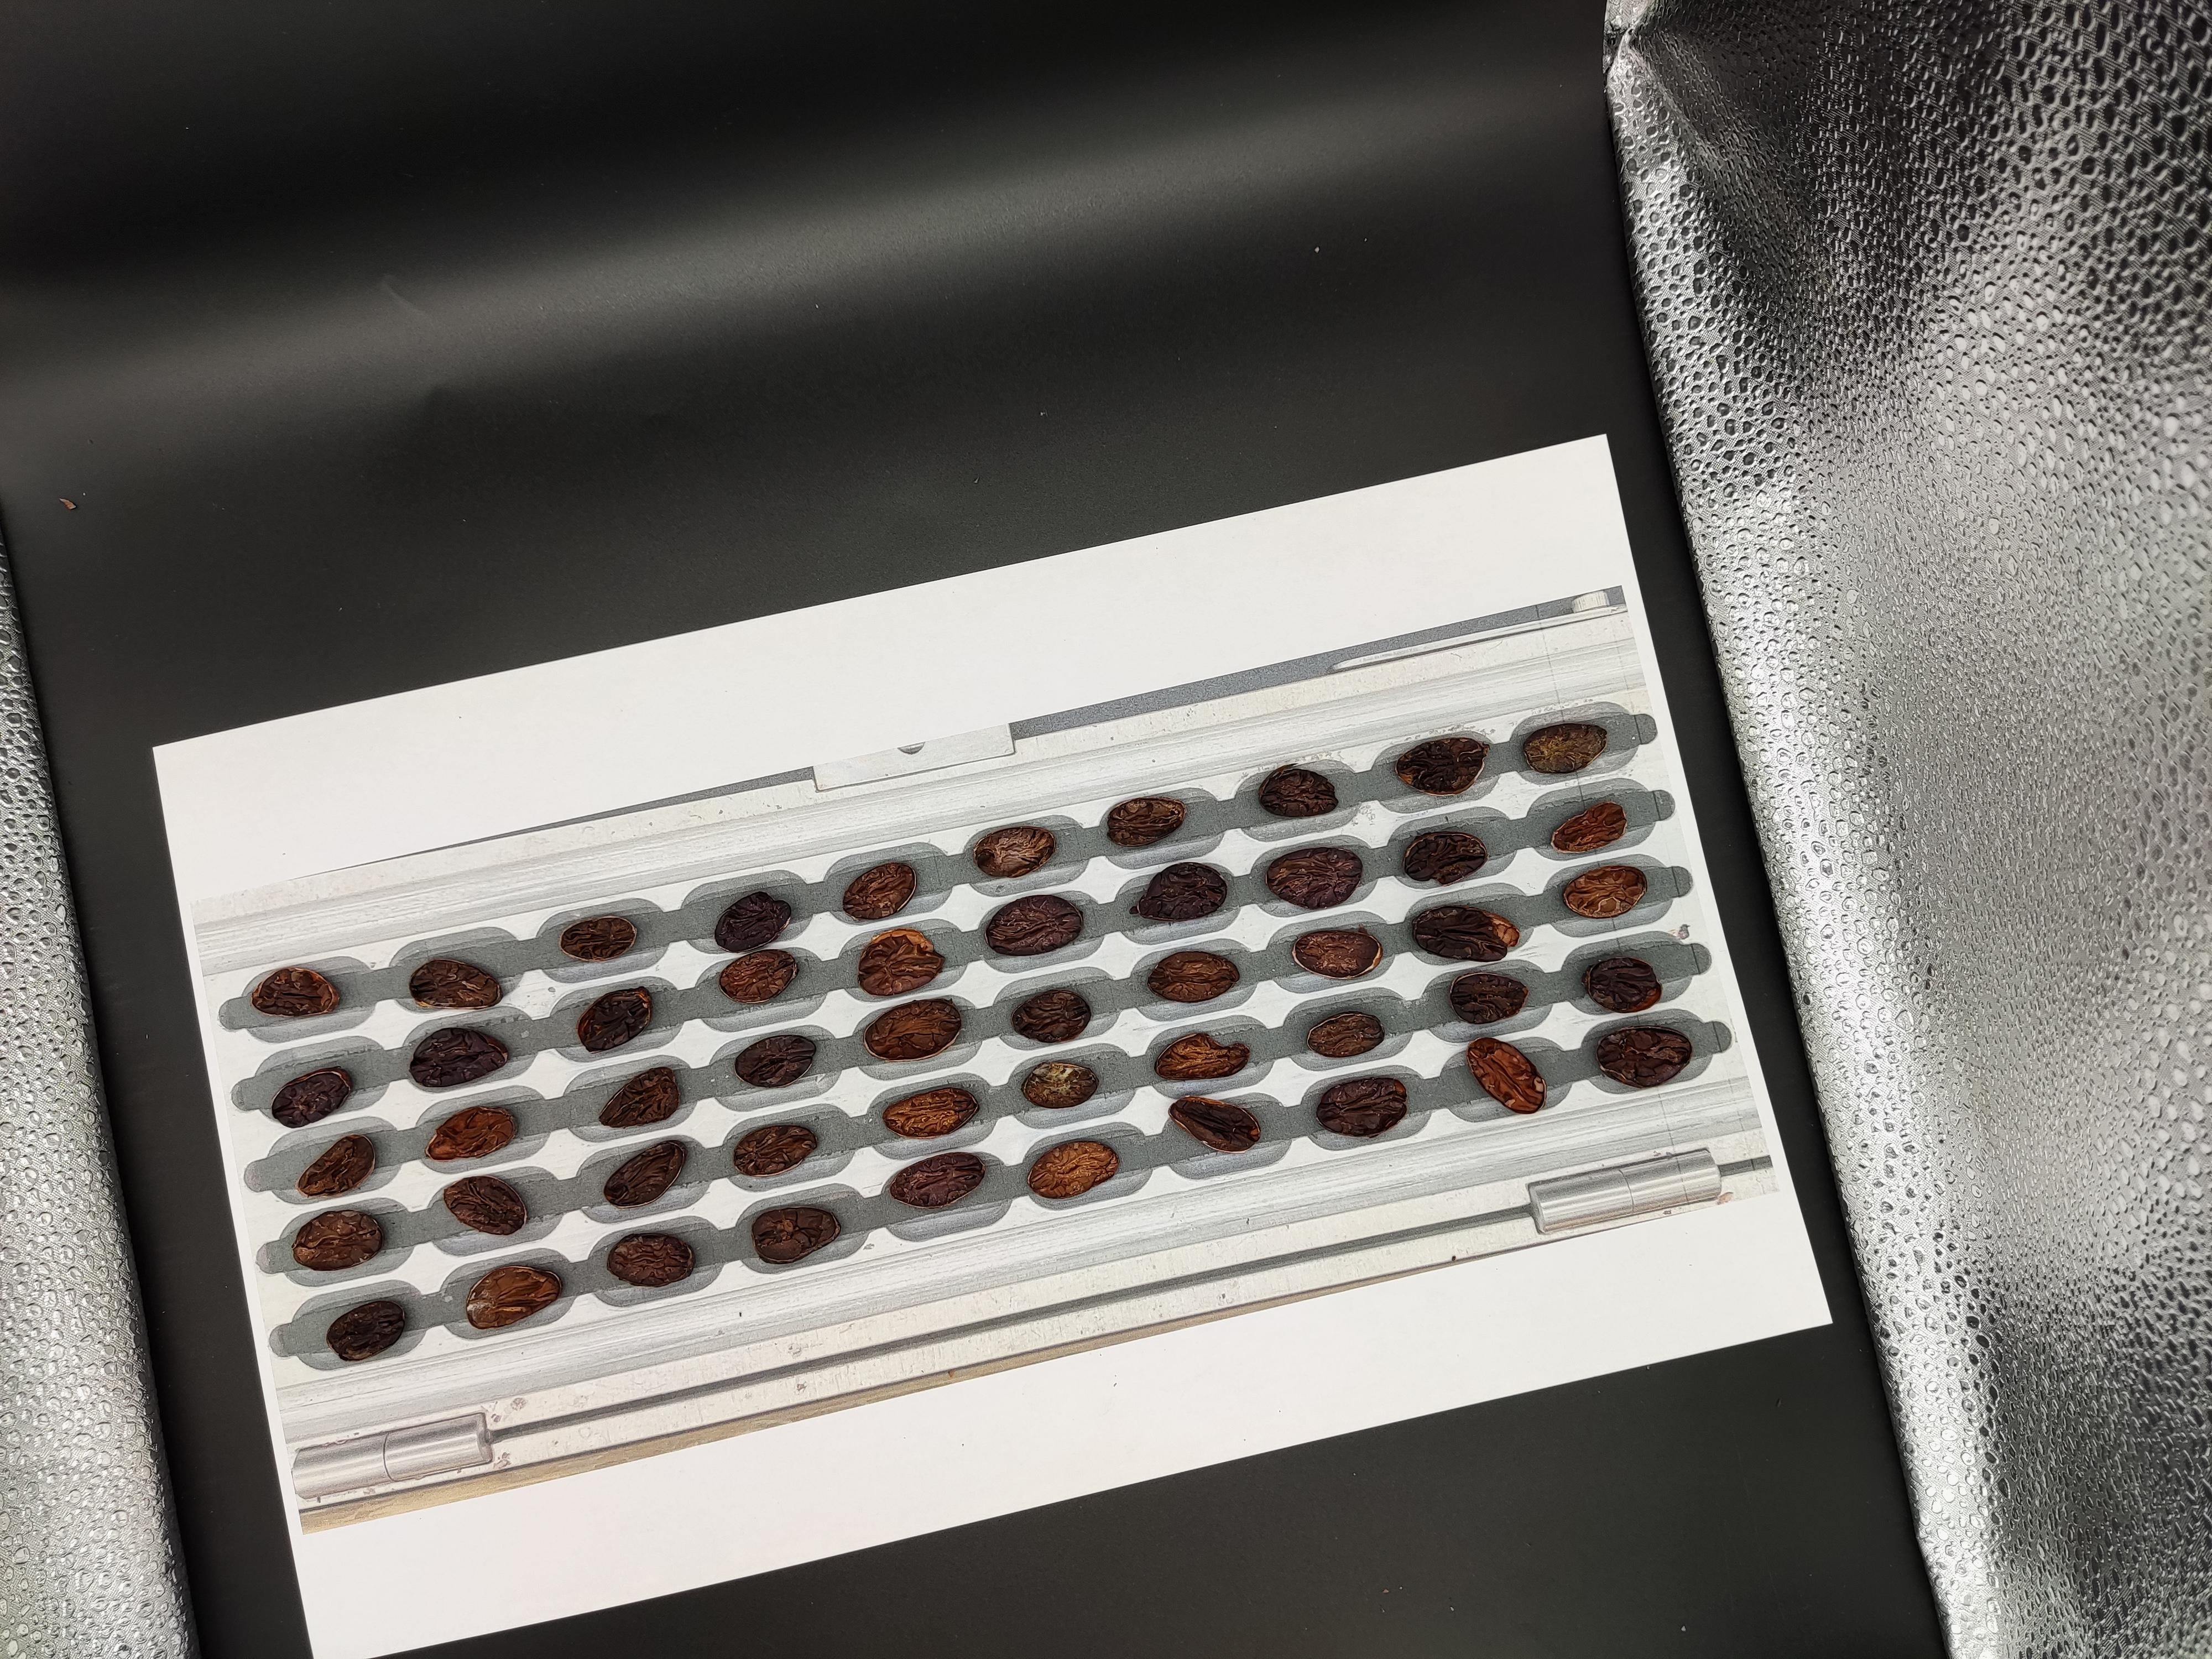Brown - G1: (1827, 528, 1876, 575), (1515, 474, 1568, 514), (1642, 406, 1693, 437), (1453, 573, 1501, 605), (1871, 410, 1916, 443)
Brown - G2: (1381, 544, 1433, 582), (1529, 554, 1585, 589), (1296, 565, 1348, 599), (1205, 491, 1258, 526), (1507, 437, 1552, 477), (1878, 439, 1926, 474), (1669, 526, 1723, 558)
Brown - G3: (1517, 509, 1576, 547), (1601, 580, 1658, 619), (1226, 615, 1278, 653), (1386, 629, 1440, 666), (1228, 577, 1275, 619), (1662, 484, 1717, 518), (1306, 599, 1355, 636), (1287, 490, 1341, 521), (1575, 420, 1625, 453), (1446, 484, 1493, 519)
Brown - G4: (1743, 518, 1794, 547)
Insect-damaged: (1855, 366, 1907, 401)
Mouldy: (1317, 643, 1371, 685), (1601, 540, 1646, 572)
Partly Purple - G1: (1792, 422, 1844, 457), (1817, 497, 1865, 530)
Partly Purple - G2: (1724, 430, 1784, 471), (1752, 549, 1803, 587)
Partly Purple - G3: (1531, 589, 1587, 622)
Partly Purple - G4: (1738, 474, 1791, 507)
Total Purple - G2: (1287, 523, 1345, 559)
Total Purple - G3: (1581, 457, 1637, 493), (1658, 439, 1712, 476), (1216, 544, 1264, 580), (1442, 455, 1489, 491)
Very Dark Brown - G1: (1791, 373, 1846, 411), (1801, 460, 1862, 495), (1888, 488, 1933, 521), (1362, 467, 1409, 495)
Very Dark Brown - G2: (1893, 523, 1951, 561), (1674, 558, 1731, 594), (1369, 502, 1418, 544), (1244, 660, 1291, 702), (1721, 390, 1768, 423), (1594, 505, 1641, 538)
Very Dark Brown - G3: (1461, 613, 1514, 653), (1386, 580, 1435, 622), (1453, 528, 1501, 561)
